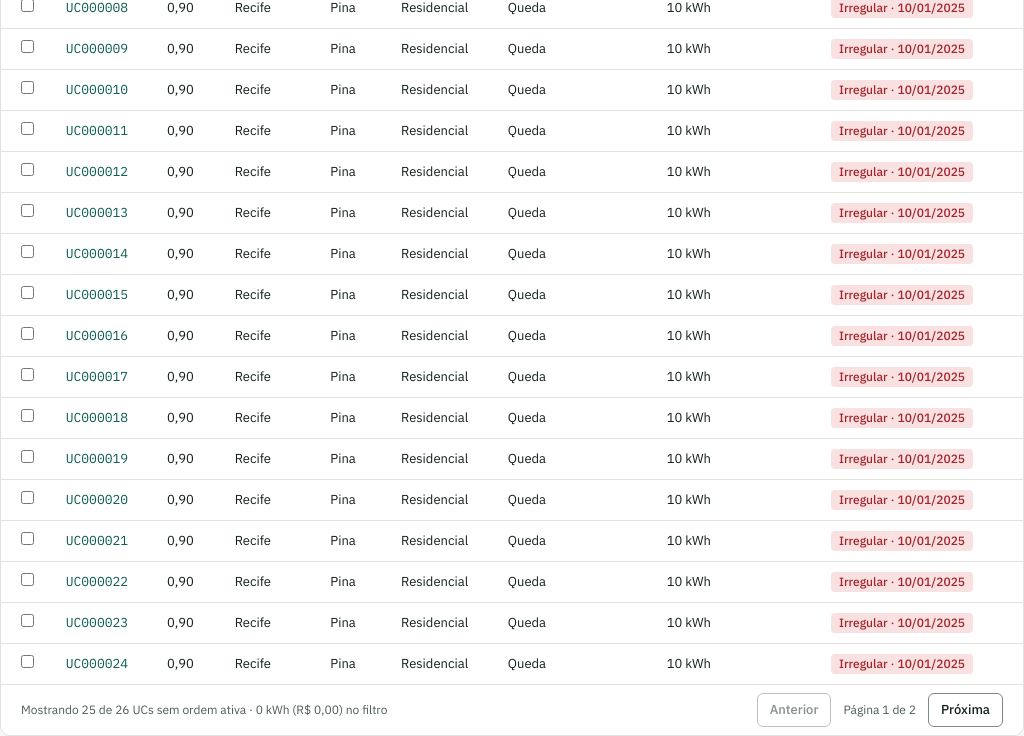
Test: Página Perdas › recua a página da fila quando o lote esvazia a última página
(page scrolled)
Click the button "Próxima". click: (966, 710)
box: left=928, top=693, right=1003, bottom=727
(page scrolled)
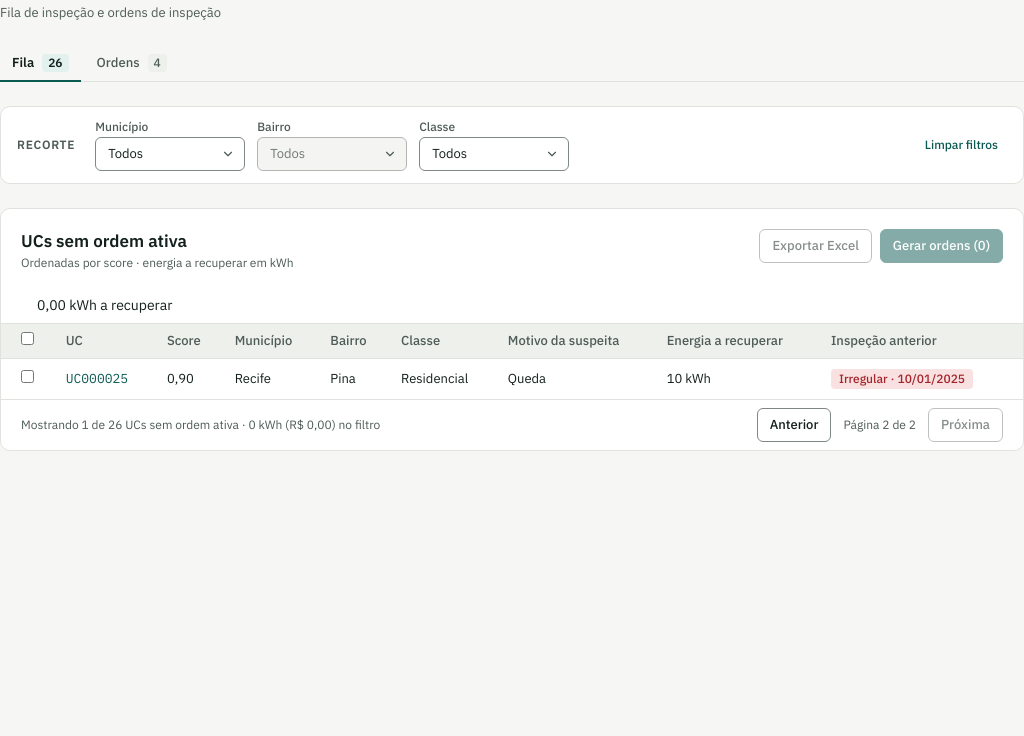
Check: the text "Página 2 de 2" is shown, box left=843, top=415, right=916, bottom=435
Click the checkbox named "Selecionar UC000025". click: (28, 376)
box: left=21, top=370, right=34, bottom=383
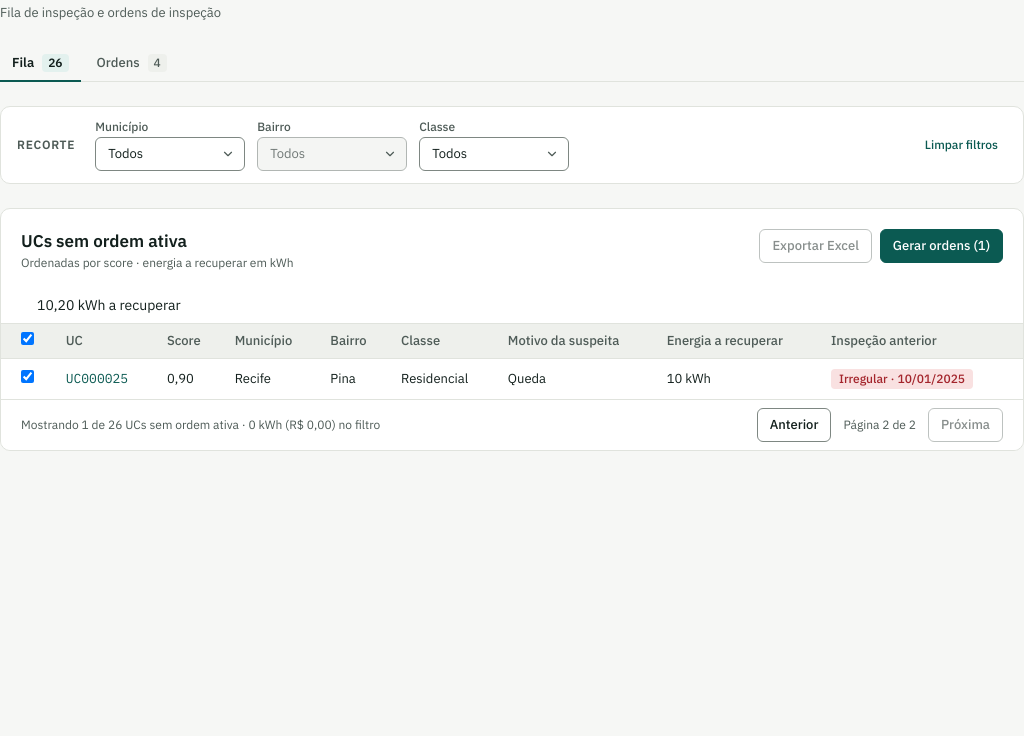
Click the button "Gerar ordens (1)". click: (941, 246)
box: left=880, top=229, right=1003, bottom=263
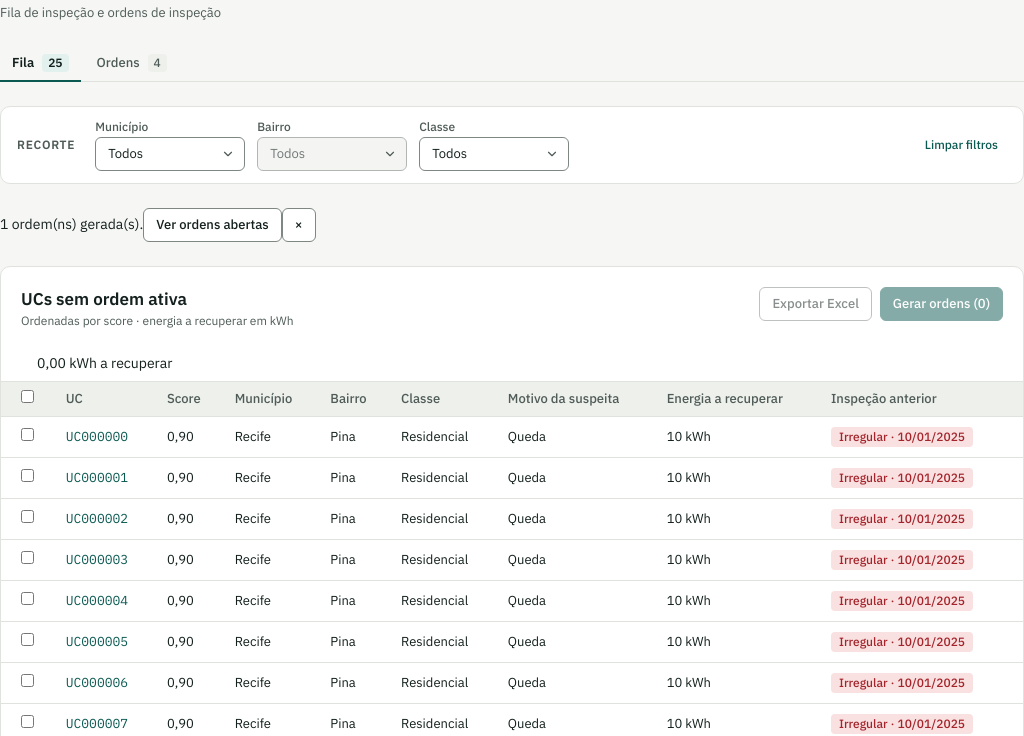
Check: the message shows "1 ordem(ns) gerada(s).", box left=0, top=215, right=143, bottom=233
